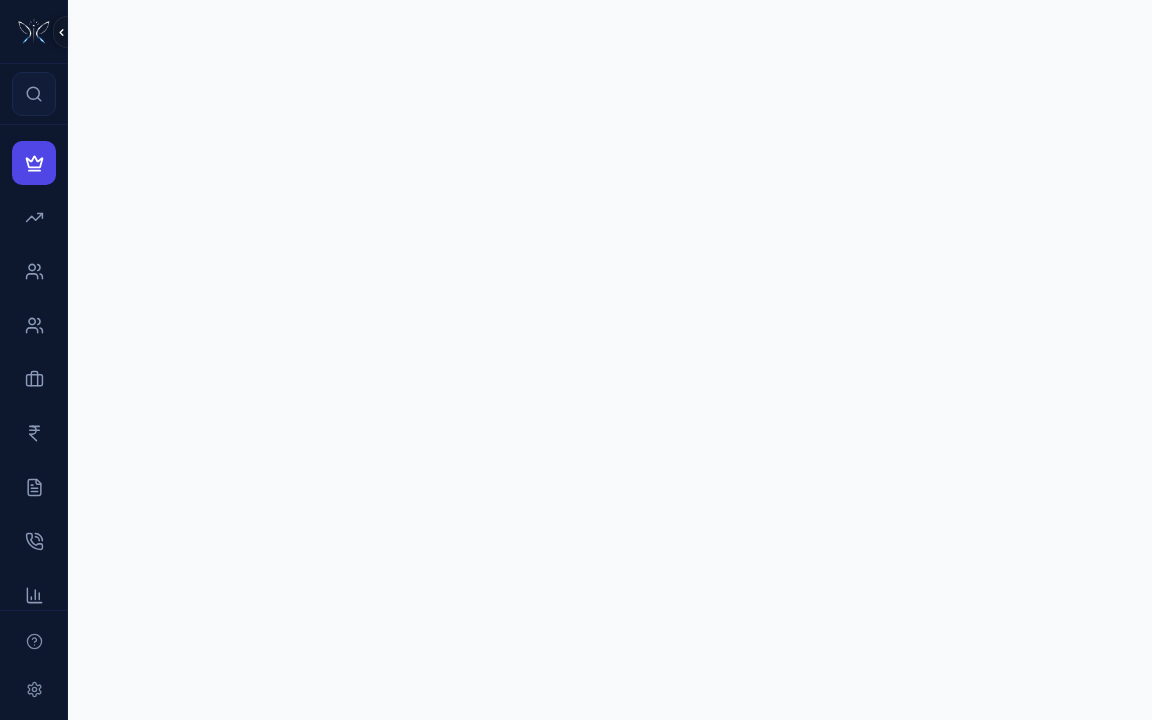
it: Sidebar Component - Search & Rail interaction › renders search palette with identical fixed width and row height in both empty and search states
Hover over the button named "search navigation" at (34, 94), box [12, 72, 56, 116]
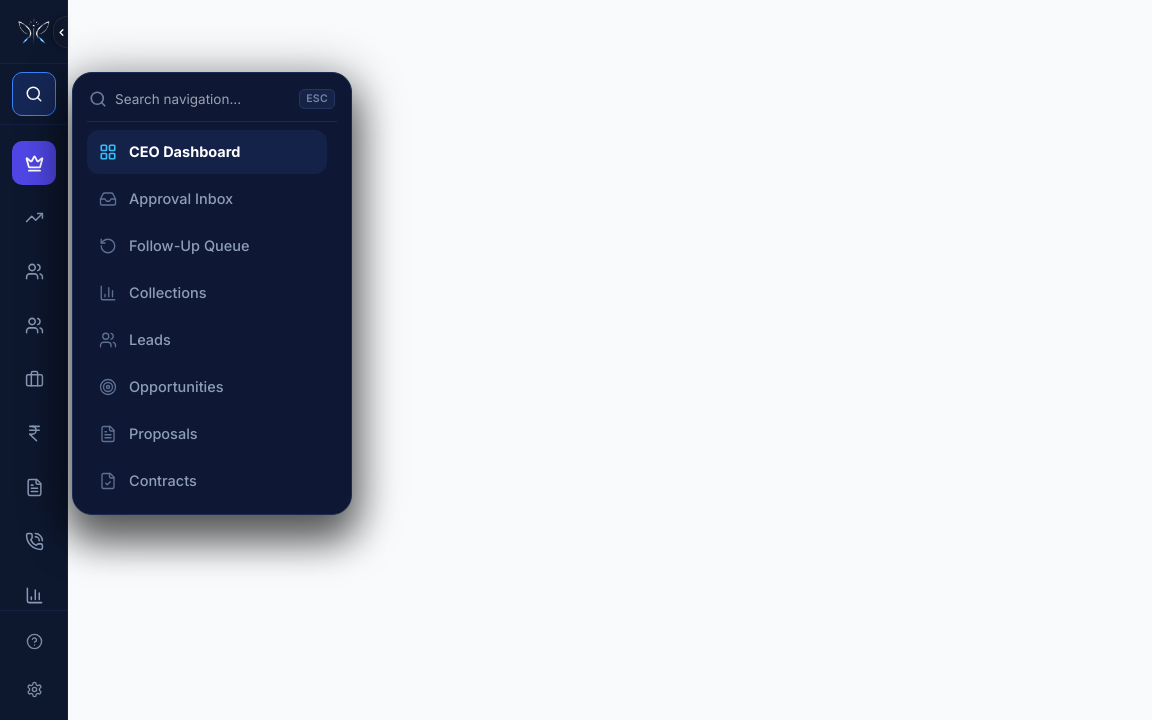
Check: the dialog named "navigation search" is shown, box [72, 72, 352, 515]
Check: the text "ESC" is shown, box [299, 89, 335, 109]
Check: the link "CEO Dashboard" is shown, box [87, 130, 327, 174]
Type "em" in the search box
Type "em" into the field with placeholder "Search navigation..." at (203, 99), box [115, 89, 291, 109]
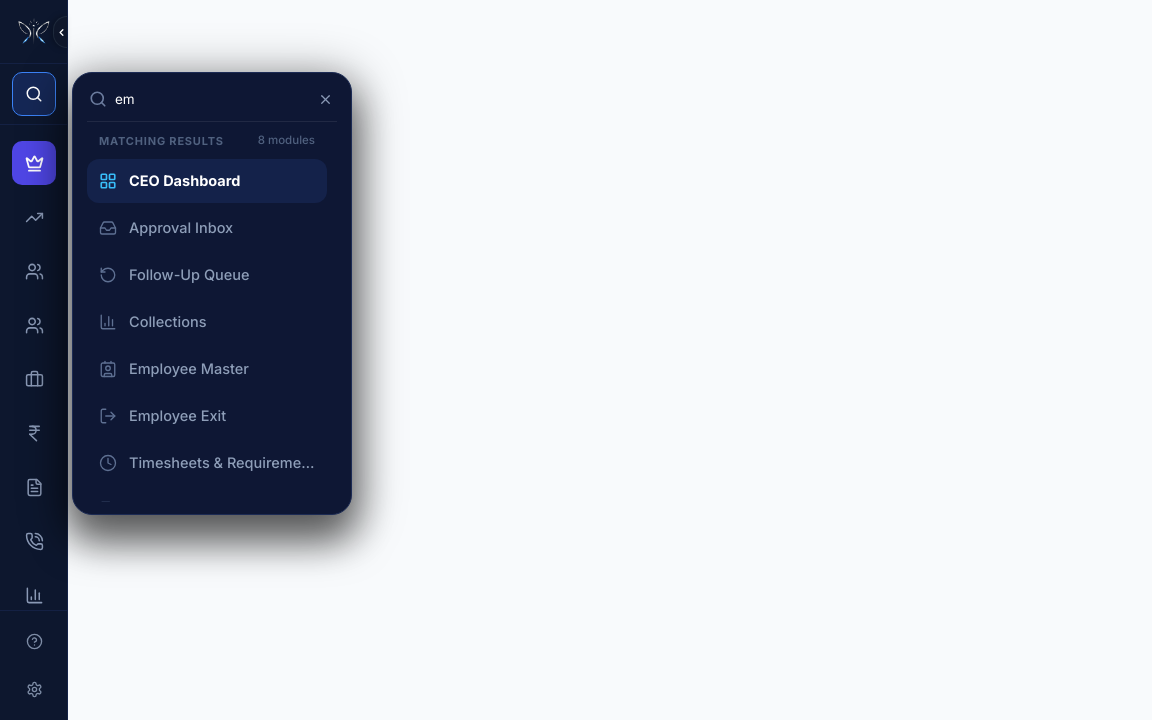
Check: the text "MATCHING RESULTS" is shown, box [99, 133, 224, 149]
Check: the text "8 modules" is shown, box [258, 132, 315, 150]
